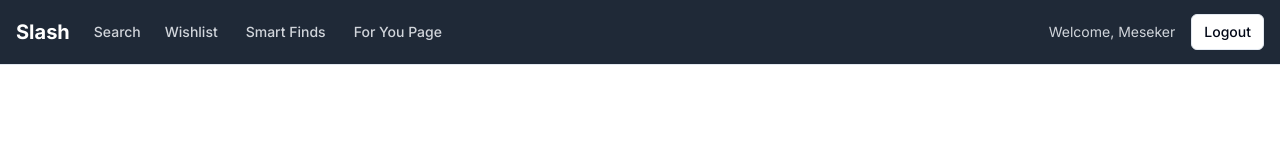
Test: Navbar › when user is logged in › shows loading state when logout button is clicked
The image size is (1280, 160).
What coordinates should you click on to do the following:
click the button "Logout"
I would click on:
 (1228, 32)
Its box is [1191,14,1264,50].
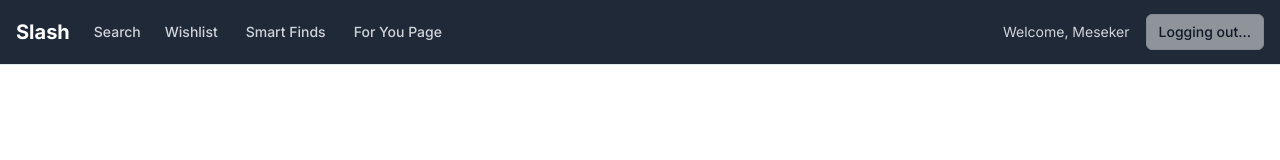
Expected: the button "Logging out..." is shown, [1146,14,1264,50]
